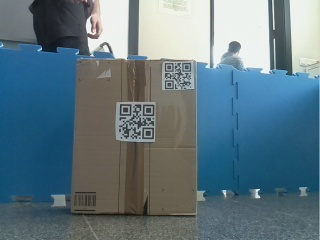caja: (74, 55, 197, 218)
